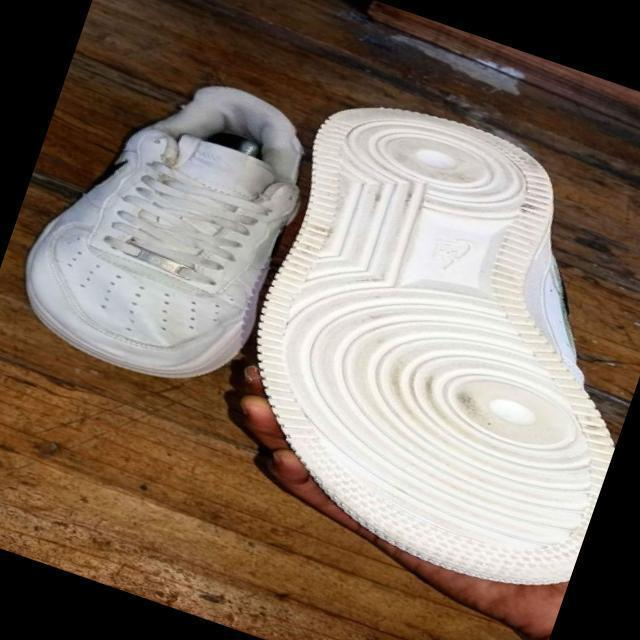nike fake air force: (1, 36, 336, 407)
